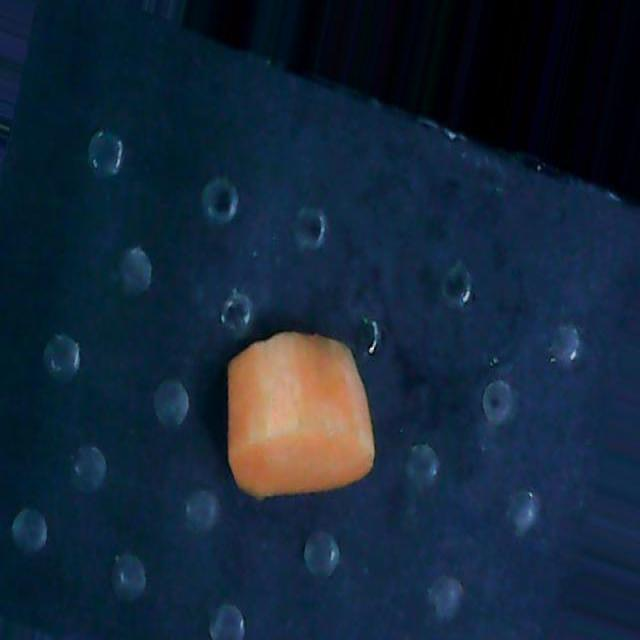-Kitchen waste - carrot-: (214, 326, 375, 502)
